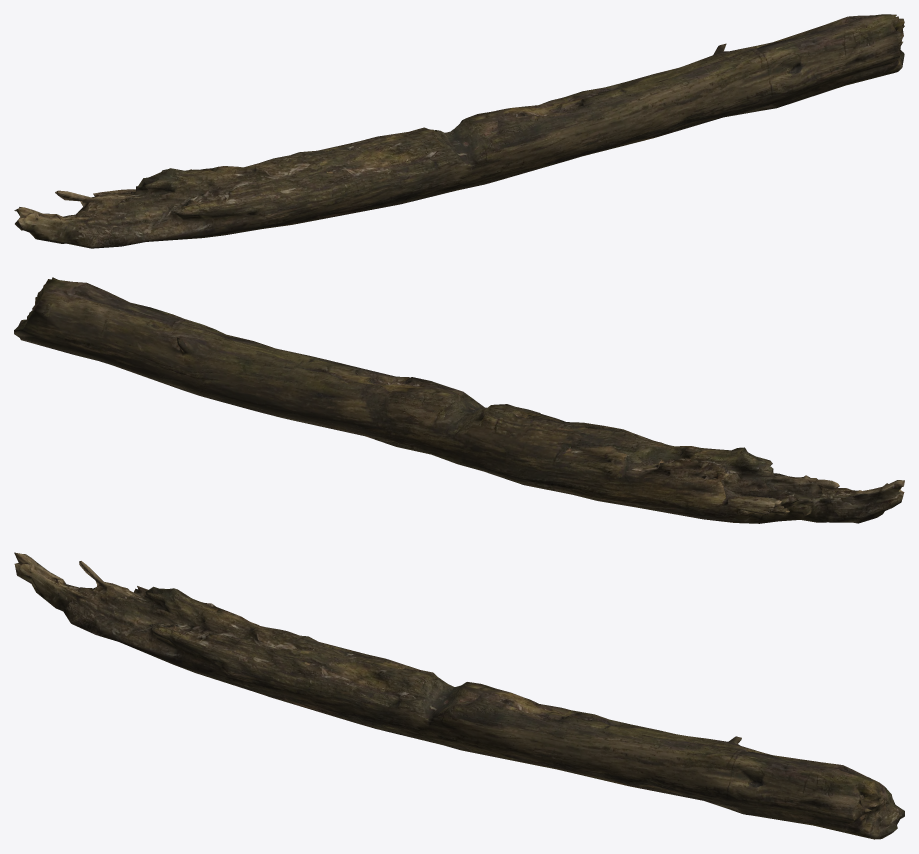
File: dead_tree_trunk.glb
The picture shows the model from 3 angles, top to bottom: view 1: azimuth 30°, elevation 25°; view 2: azimuth 150°, elevation 25°; view 3: azimuth 330°, elevation 25°; orthographic projection.
Parts seen in each view (by area): view 1: a; view 2: a; view 3: a.
Boxes of the visible parts, box(x1,y1,x2,y2) form: a: box(14, 14, 904, 248); a: box(14, 277, 904, 523); a: box(14, 552, 904, 839).
Size of the model in its own units: 3.05 by 0.2867 by 0.2748.
Materials: 1 (1 with a texture image).
